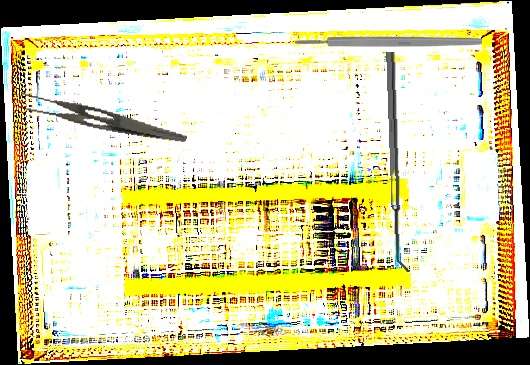Dressing Forceps: (16, 89, 191, 144)
Scalpel Handle: (295, 36, 482, 47)
Spatula Surgical: (386, 51, 411, 273)
